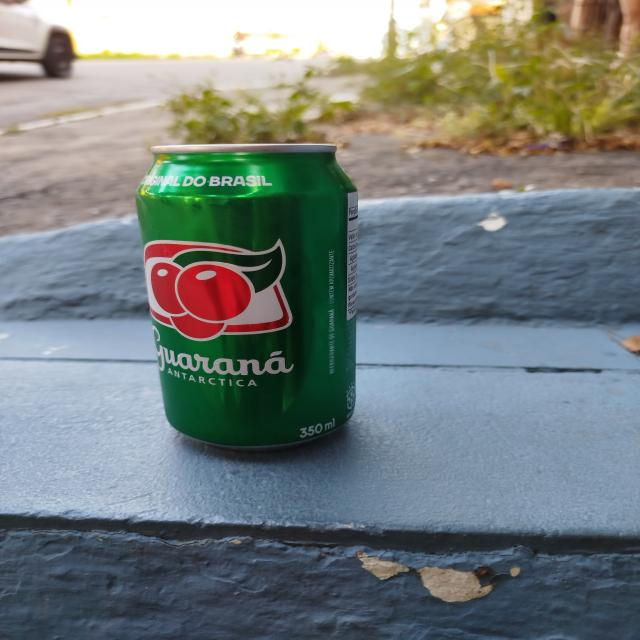Guarana: (136, 141, 364, 445)
